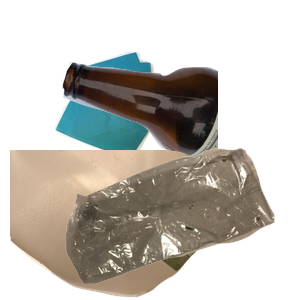glass: (60, 59, 300, 217)
paper: (52, 49, 209, 198)
plastic: (10, 150, 250, 300)
trash: (63, 145, 300, 300)
